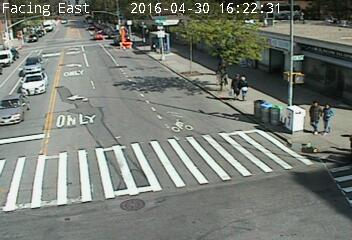neg: (38, 93, 80, 149), (82, 180, 123, 234), (227, 135, 266, 188), (84, 71, 120, 120), (273, 61, 298, 95), (22, 61, 43, 88), (223, 19, 242, 44)
